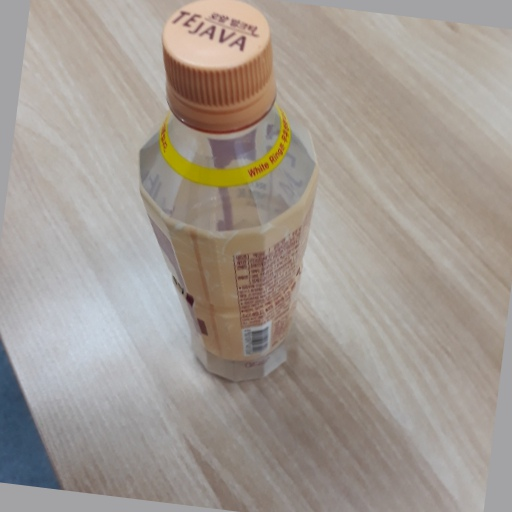Plastic_0: (135, 1, 319, 392)
